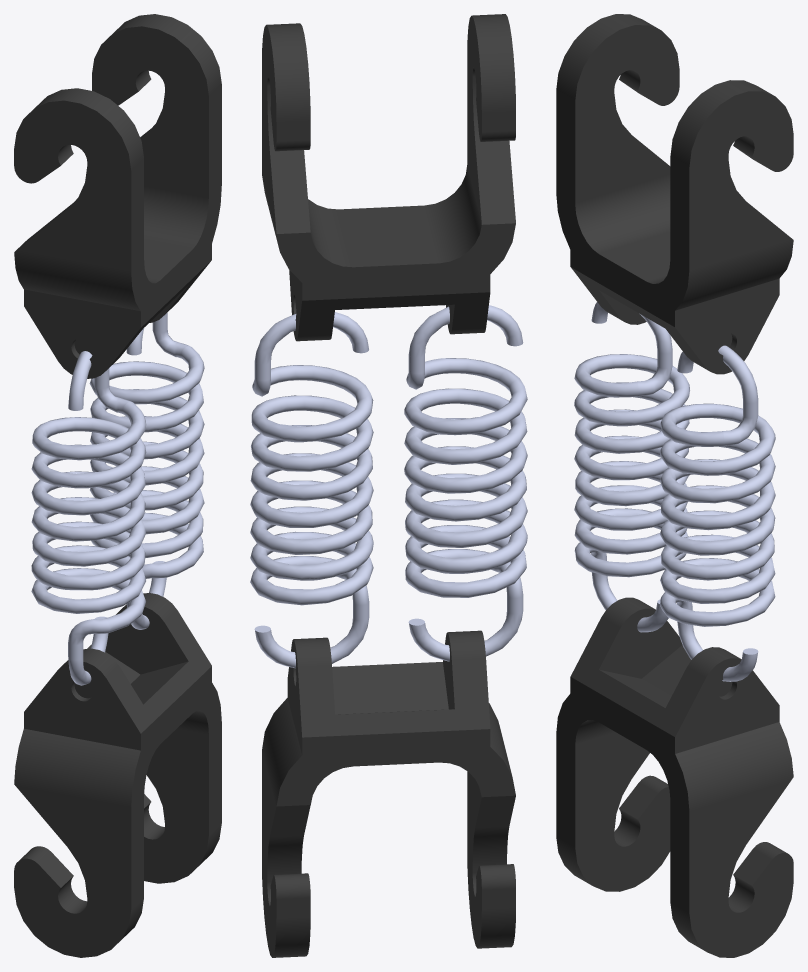
The picture shows the model from 3 angles, left to right: view 1: azimuth 30°, elevation 25°; view 2: azimuth 150°, elevation 25°; view 3: azimuth 270°, elevation 25°; orthographic projection. The views are drawn at different scales.
Parts seen in each view (by area): view 1: IRB360_6-1600-STD-4D_rev03_LA1_CU_CAD; view 2: IRB360_6-1600-STD-4D_rev03_LA1_CU_CAD; view 3: IRB360_6-1600-STD-4D_rev03_LA1_CU_CAD.
Part boxes in pixels (x1,y1,x2,y2): IRB360_6-1600-STD-4D_rev03_LA1_CU_CAD: (14,14,221,957); IRB360_6-1600-STD-4D_rev03_LA1_CU_CAD: (250,14,527,957); IRB360_6-1600-STD-4D_rev03_LA1_CU_CAD: (556,14,793,957).
Bounding box in the file's own units: 0.0321 × 0.1178 × 0.0294.
